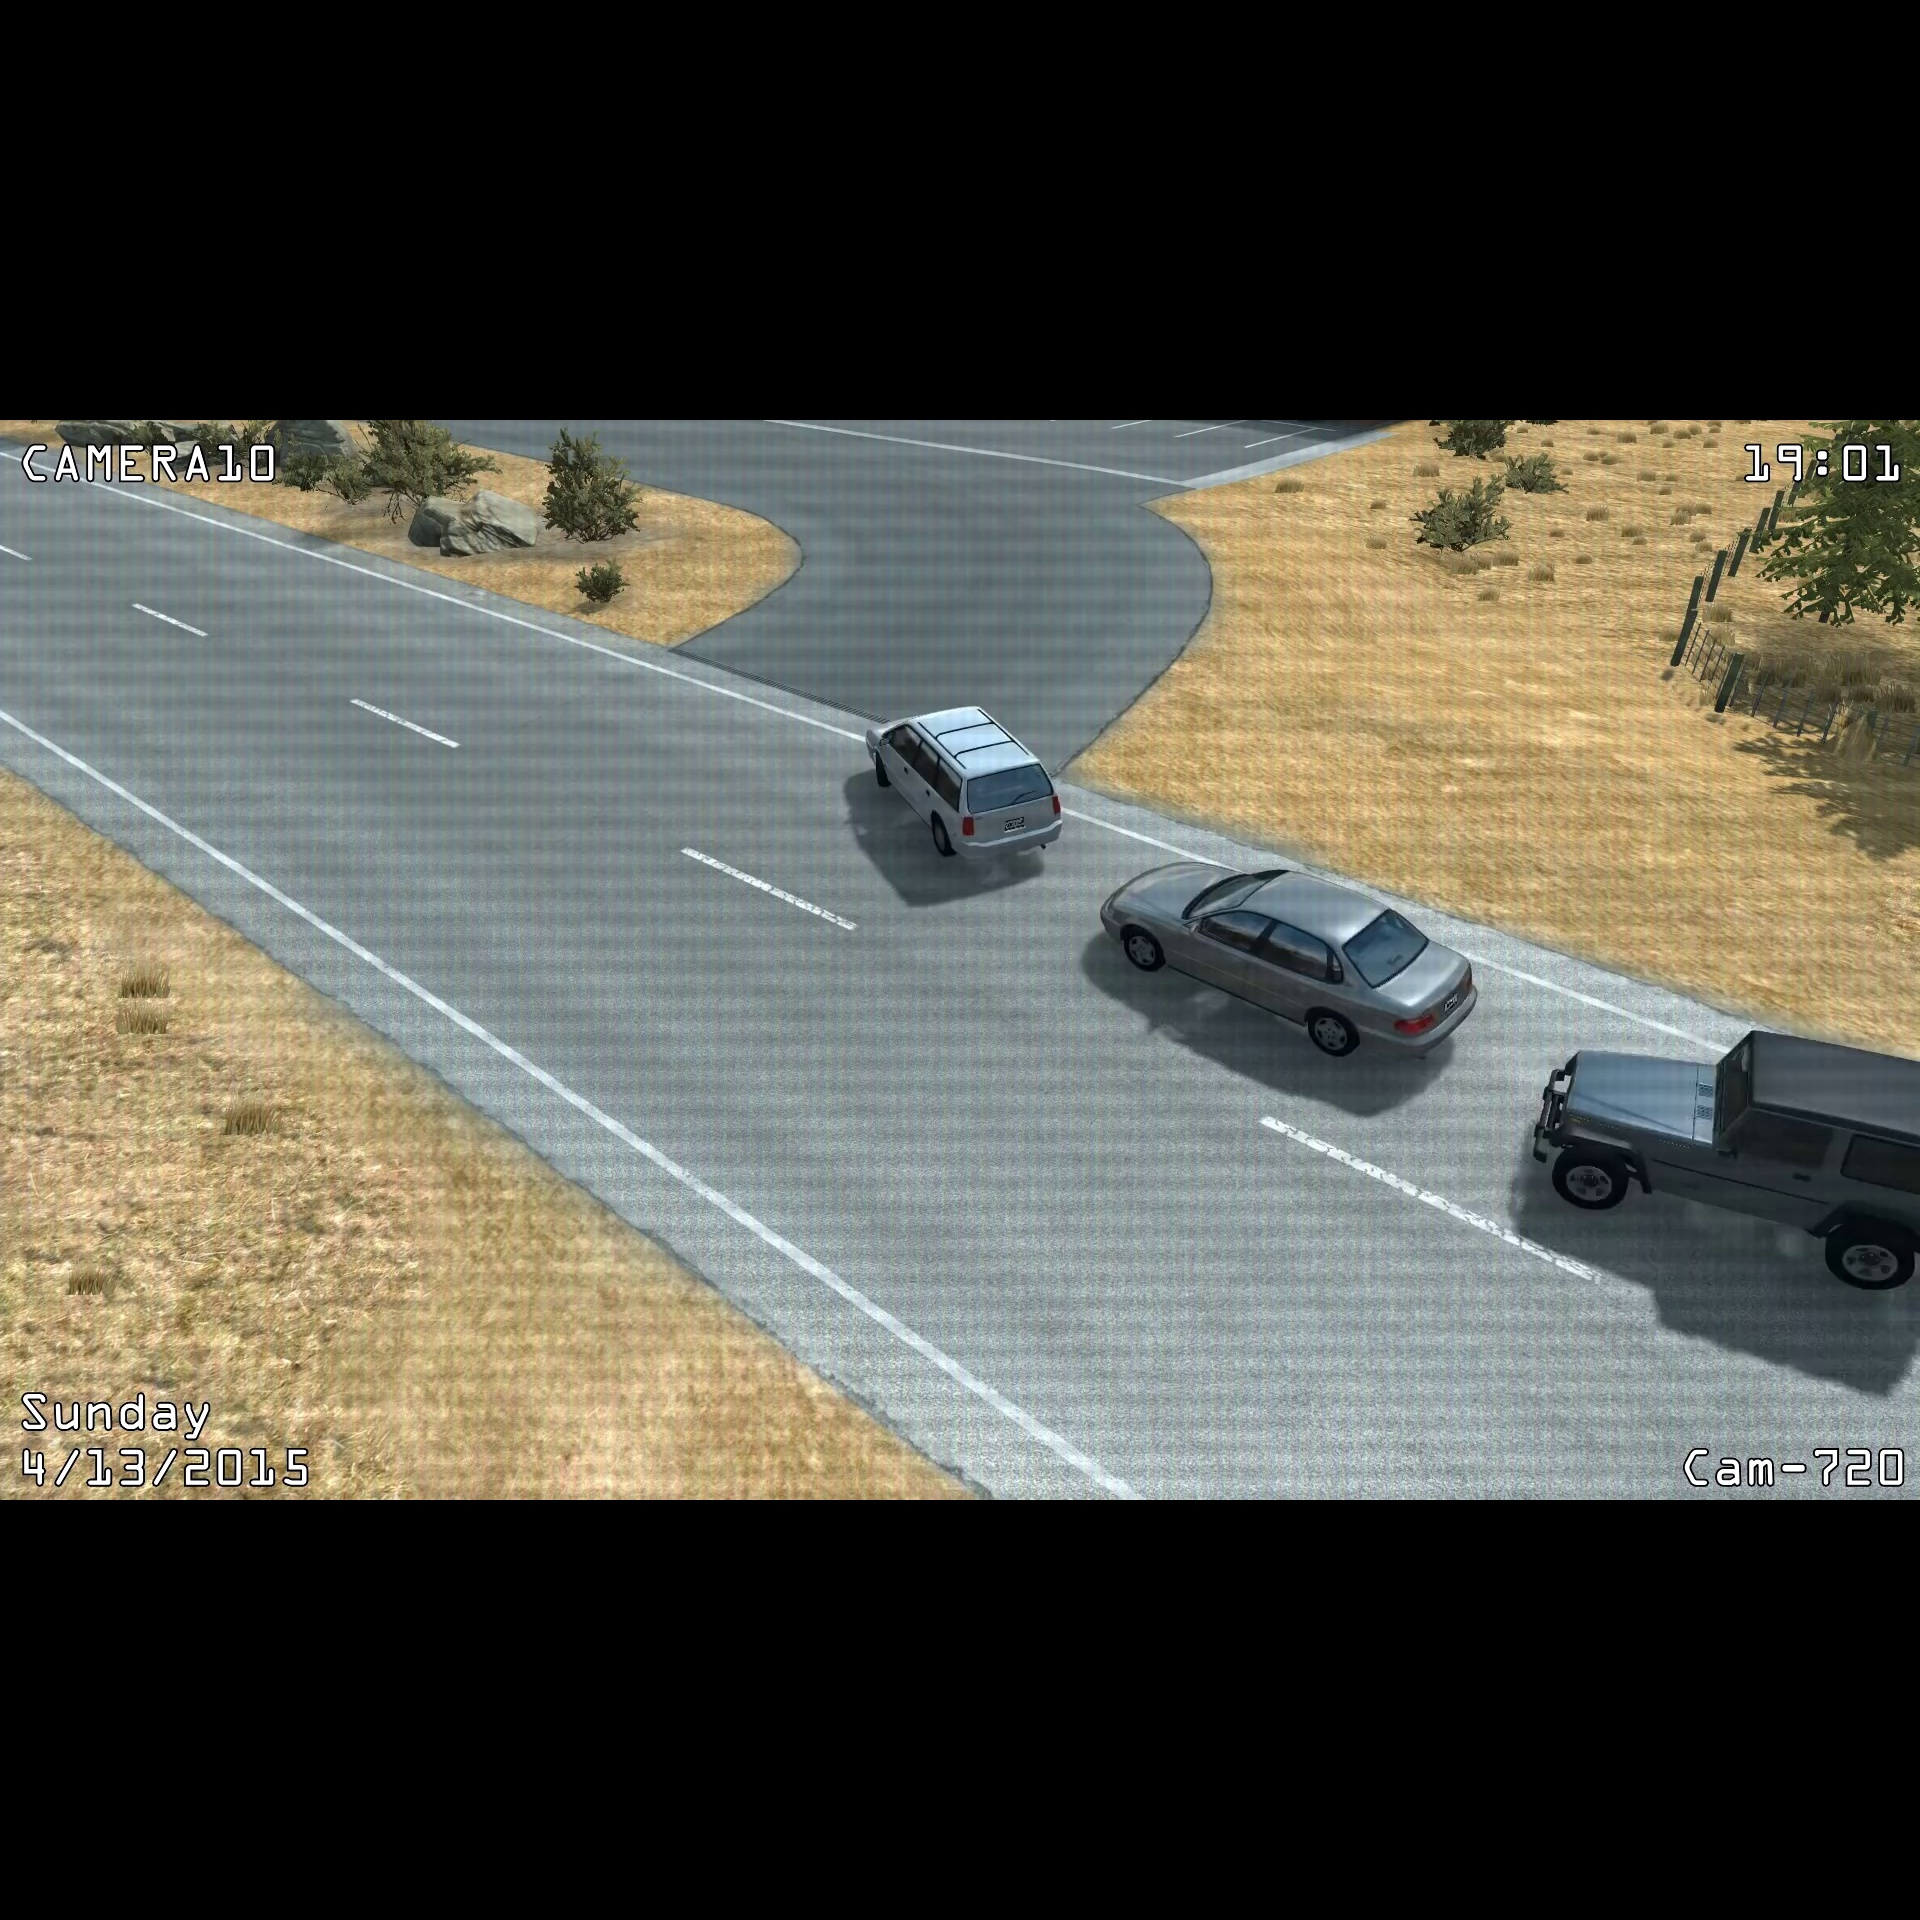vehicle: (1524, 1018, 1920, 1296), (1092, 849, 1487, 1073), (855, 687, 1074, 869)
